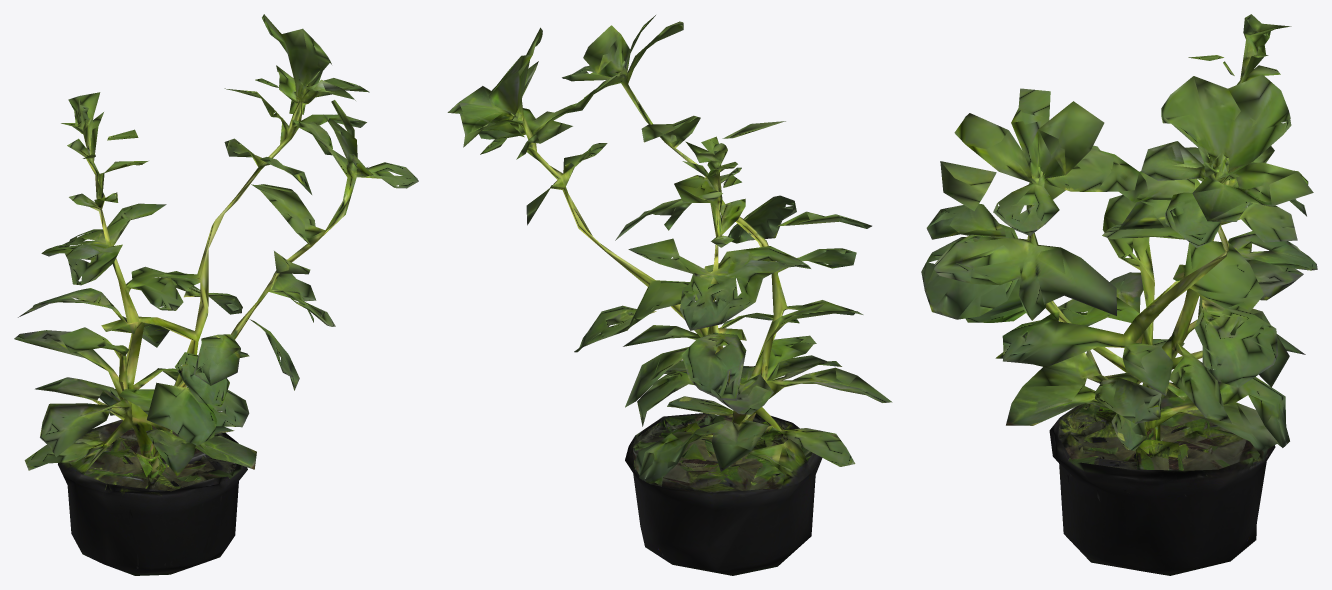
File: boldinho.glb
The picture shows the model from 3 angles, left to right: view 1: azimuth 30°, elevation 25°; view 2: azimuth 150°, elevation 25°; view 3: azimuth 270°, elevation 25°; orthographic projection. The views are drawn at different scales.
Bounding box in the file's own units: 1.63 × 1.98 × 1.27.
1 material, 1 textured.
